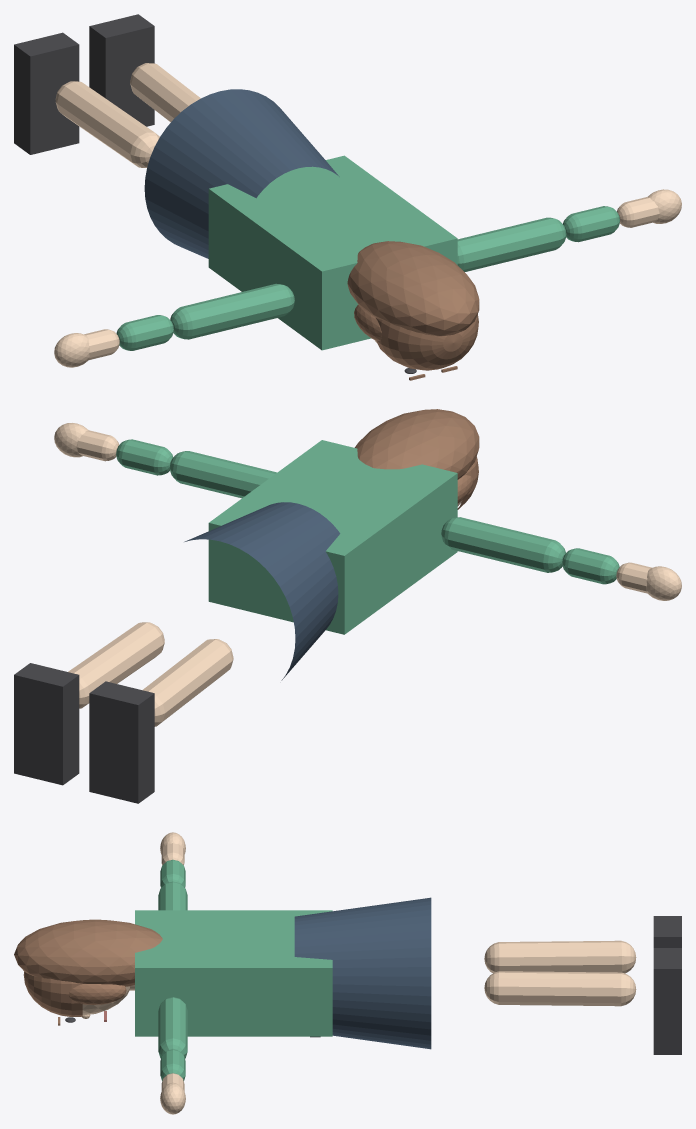
File: char_idle.glb
The picture shows the model from 3 angles, top to bottom: view 1: azimuth 30°, elevation 25°; view 2: azimuth 150°, elevation 25°; view 3: azimuth 270°, elevation 25°; orthographic projection. The views are drawn at different scales.
Visible parts, largest first — view 1: CHAR_FEMALE_001_torso_jacket, CHAR_FEMALE_001_skirt, CHAR_FEMALE_001_back_hair, CHAR_FEMALE_001_shoe_L, CHAR_FEMALE_001_shoe_R, CHAR_FEMALE_001_calf_L, CHAR_FEMALE_001_upper_arm_L, CHAR_FEMALE_001_upper_arm_R, CHAR_FEMALE_001_hair_cap, CHAR_FEMALE_001_calf_R, CHAR_FEMALE_001_forearm_L, CHAR_FEMALE_001_forearm_R (+5 smaller); view 2: CHAR_FEMALE_001_torso_jacket, CHAR_FEMALE_001_skirt, CHAR_FEMALE_001_shoe_L, CHAR_FEMALE_001_shoe_R, CHAR_FEMALE_001_back_hair, CHAR_FEMALE_001_upper_arm_L, CHAR_FEMALE_001_calf_L, CHAR_FEMALE_001_calf_R, CHAR_FEMALE_001_upper_arm_R, CHAR_FEMALE_001_forearm_L, CHAR_FEMALE_001_forearm_R, CHAR_FEMALE_001_hand_L (+3 smaller); view 3: CHAR_FEMALE_001_torso_jacket, CHAR_FEMALE_001_skirt, CHAR_FEMALE_001_back_hair, CHAR_FEMALE_001_calf_R, CHAR_FEMALE_001_calf_L, CHAR_FEMALE_001_shoe_R, CHAR_FEMALE_001_hair_cap, CHAR_FEMALE_001_upper_arm_R, CHAR_FEMALE_001_hair_side_R, CHAR_FEMALE_001_shoe_L, CHAR_FEMALE_001_upper_arm_L, CHAR_FEMALE_001_hand_R (+2 smaller).
Part boxes in pixels (x1,y1,x2,y2): CHAR_FEMALE_001_torso_jacket: [208, 155, 457, 350]; CHAR_FEMALE_001_skirt: [144, 89, 339, 258]; CHAR_FEMALE_001_back_hair: [347, 241, 479, 336]; CHAR_FEMALE_001_shoe_L: [14, 32, 79, 154]; CHAR_FEMALE_001_shoe_R: [89, 14, 154, 126]; CHAR_FEMALE_001_calf_L: [55, 81, 159, 167]; CHAR_FEMALE_001_upper_arm_L: [170, 283, 294, 339]; CHAR_FEMALE_001_upper_arm_R: [457, 217, 566, 271]; CHAR_FEMALE_001_hair_cap: [376, 314, 478, 370]; CHAR_FEMALE_001_calf_R: [130, 63, 200, 122]; CHAR_FEMALE_001_forearm_L: [116, 315, 173, 350]; CHAR_FEMALE_001_forearm_R: [563, 206, 619, 242]; CHAR_FEMALE_001_torso_jacket: [208, 440, 457, 634]; CHAR_FEMALE_001_skirt: [184, 502, 340, 680]; CHAR_FEMALE_001_shoe_L: [89, 681, 154, 803]; CHAR_FEMALE_001_shoe_R: [14, 663, 79, 785]; CHAR_FEMALE_001_back_hair: [354, 409, 479, 479]; CHAR_FEMALE_001_upper_arm_L: [441, 517, 565, 572]; CHAR_FEMALE_001_calf_L: [142, 639, 233, 726]; CHAR_FEMALE_001_calf_R: [68, 622, 164, 708]; CHAR_FEMALE_001_upper_arm_R: [169, 451, 276, 498]; CHAR_FEMALE_001_forearm_L: [562, 548, 619, 584]; CHAR_FEMALE_001_forearm_R: [116, 439, 173, 475]; CHAR_FEMALE_001_hand_L: [646, 566, 681, 600]; CHAR_FEMALE_001_torso_jacket: [135, 910, 332, 1036]; CHAR_FEMALE_001_skirt: [294, 897, 431, 1049]; CHAR_FEMALE_001_back_hair: [14, 919, 162, 986]; CHAR_FEMALE_001_calf_R: [484, 971, 636, 1006]; CHAR_FEMALE_001_calf_L: [484, 940, 636, 973]; CHAR_FEMALE_001_shoe_R: [653, 948, 681, 1054]; CHAR_FEMALE_001_hair_cap: [23, 971, 82, 1016]; CHAR_FEMALE_001_upper_arm_R: [158, 997, 187, 1058]; CHAR_FEMALE_001_hair_side_R: [69, 984, 126, 1004]; CHAR_FEMALE_001_shoe_L: [653, 916, 681, 947]; CHAR_FEMALE_001_upper_arm_L: [158, 881, 187, 910]; CHAR_FEMALE_001_hand_R: [160, 1082, 185, 1114].
Size of the model in its own units: 1.61 by 0.3884 by 1.71.
